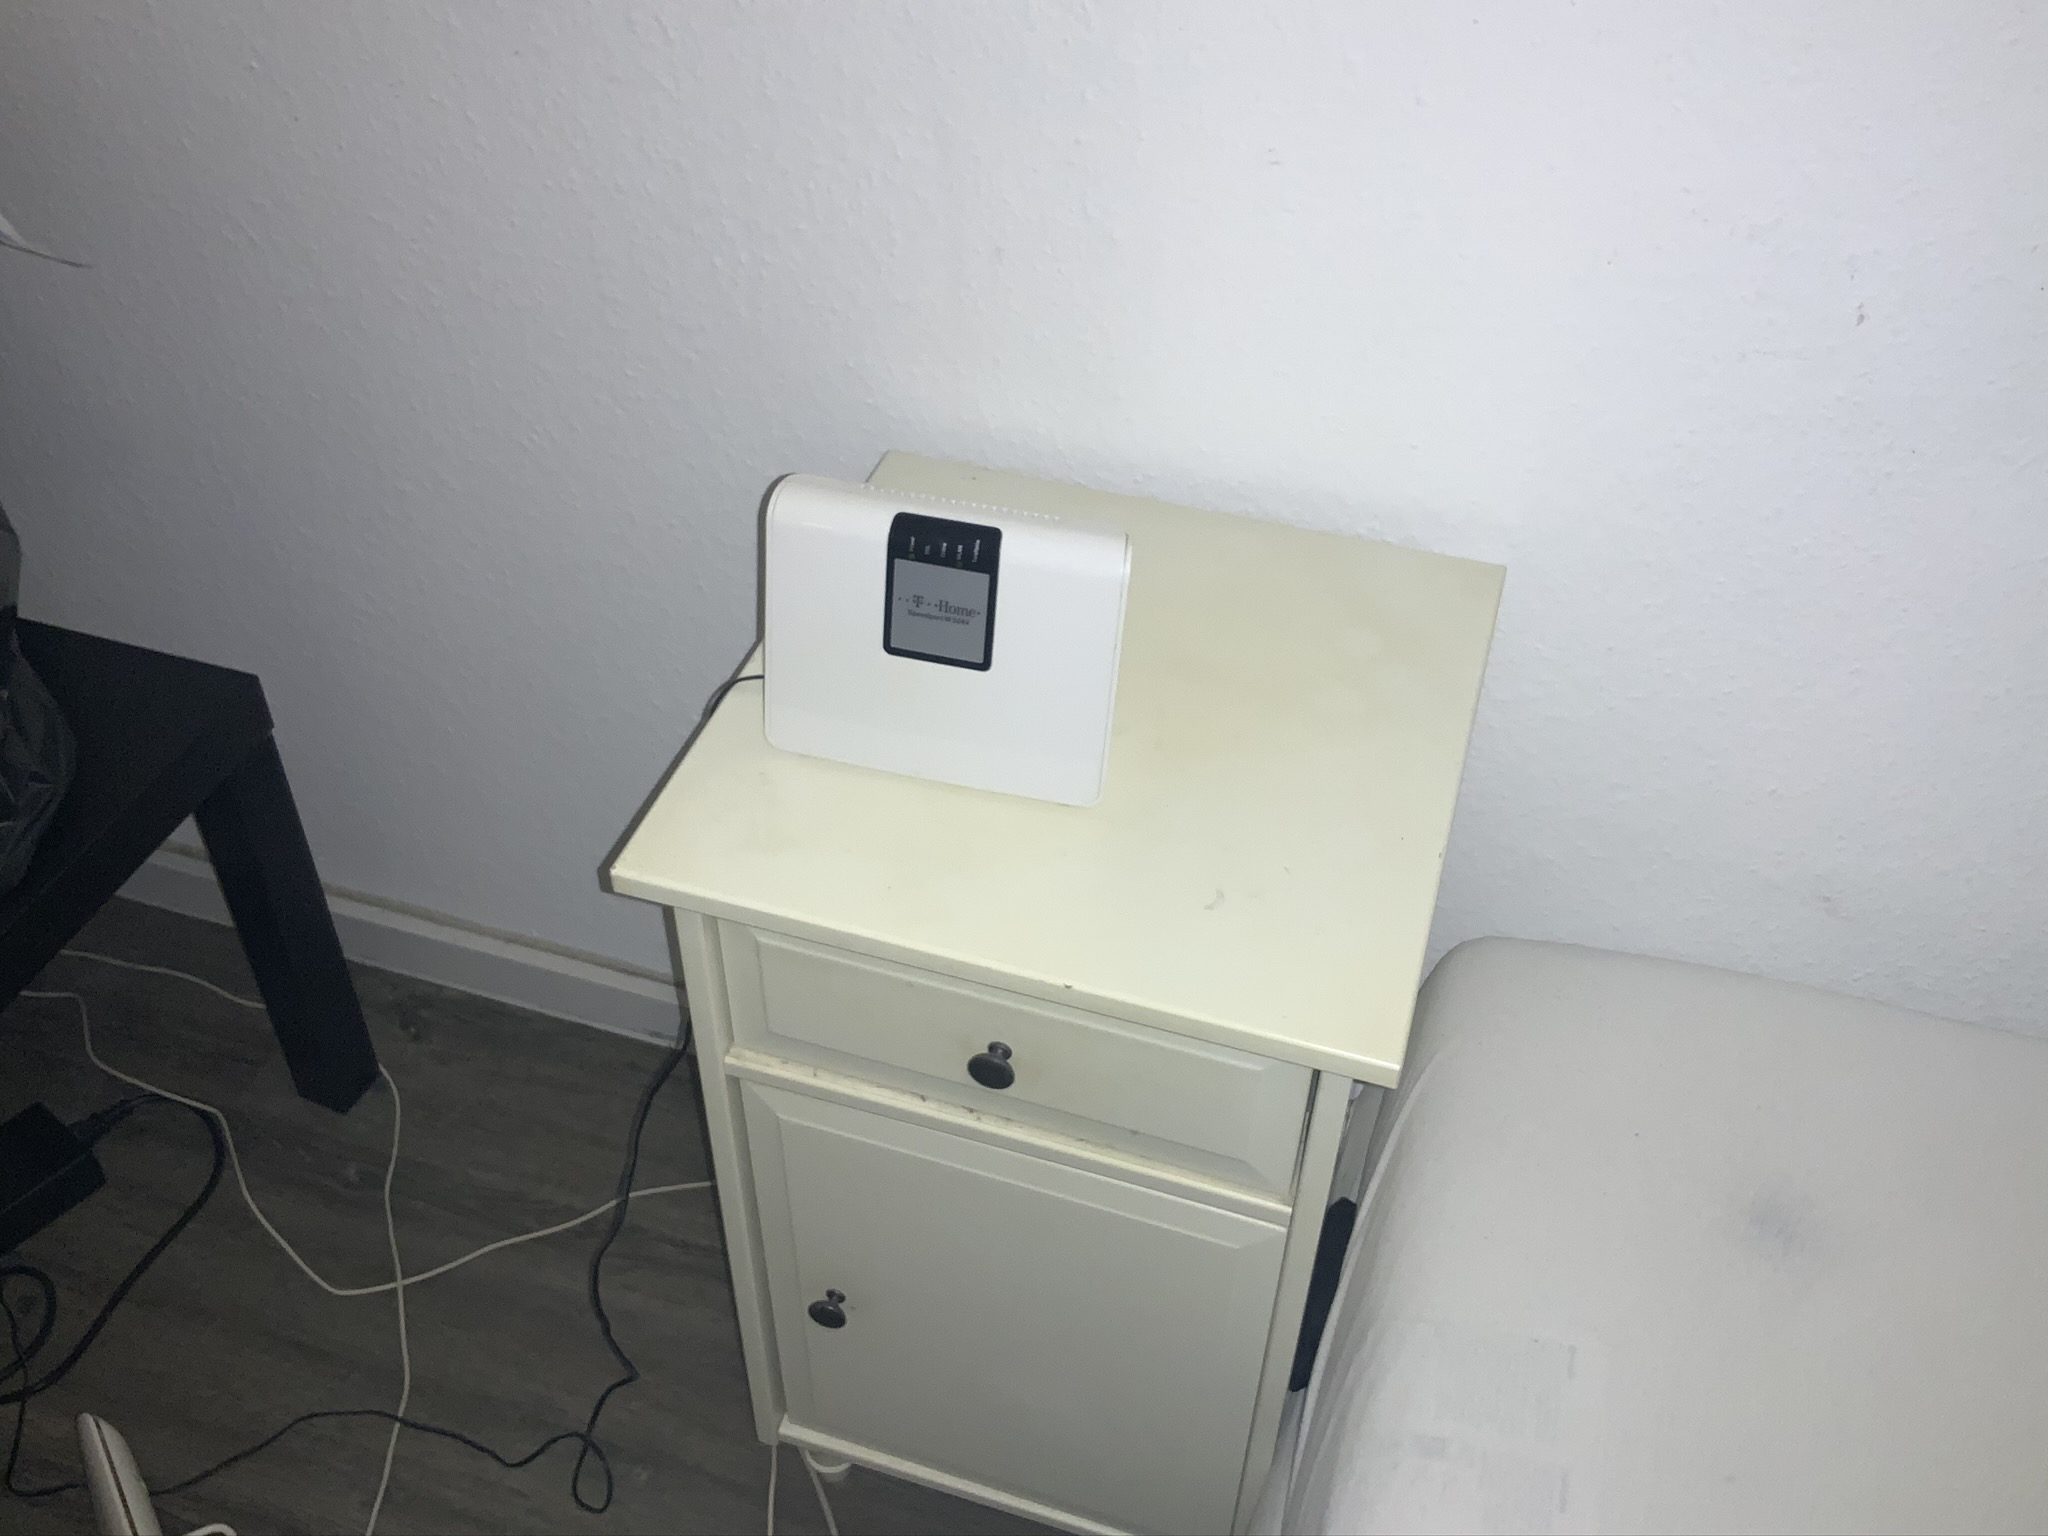Router2: (751, 461, 1143, 820)
